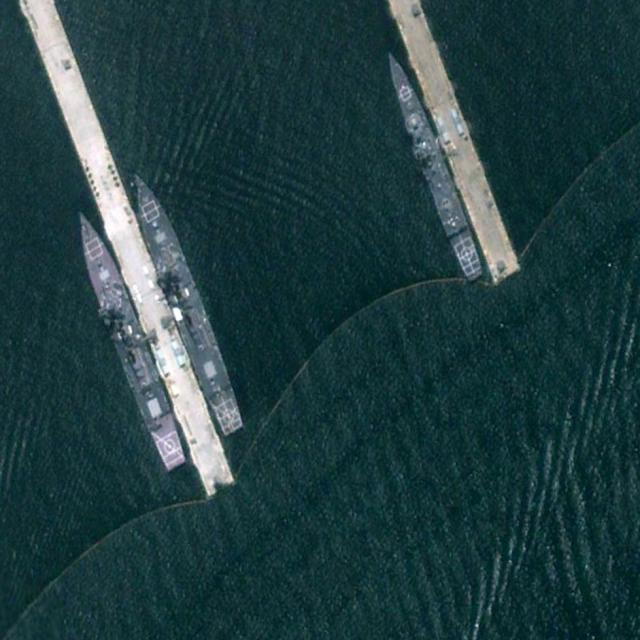Destroyer: (121, 162, 248, 442), (65, 201, 190, 475)
Frigate: (378, 45, 486, 286)
